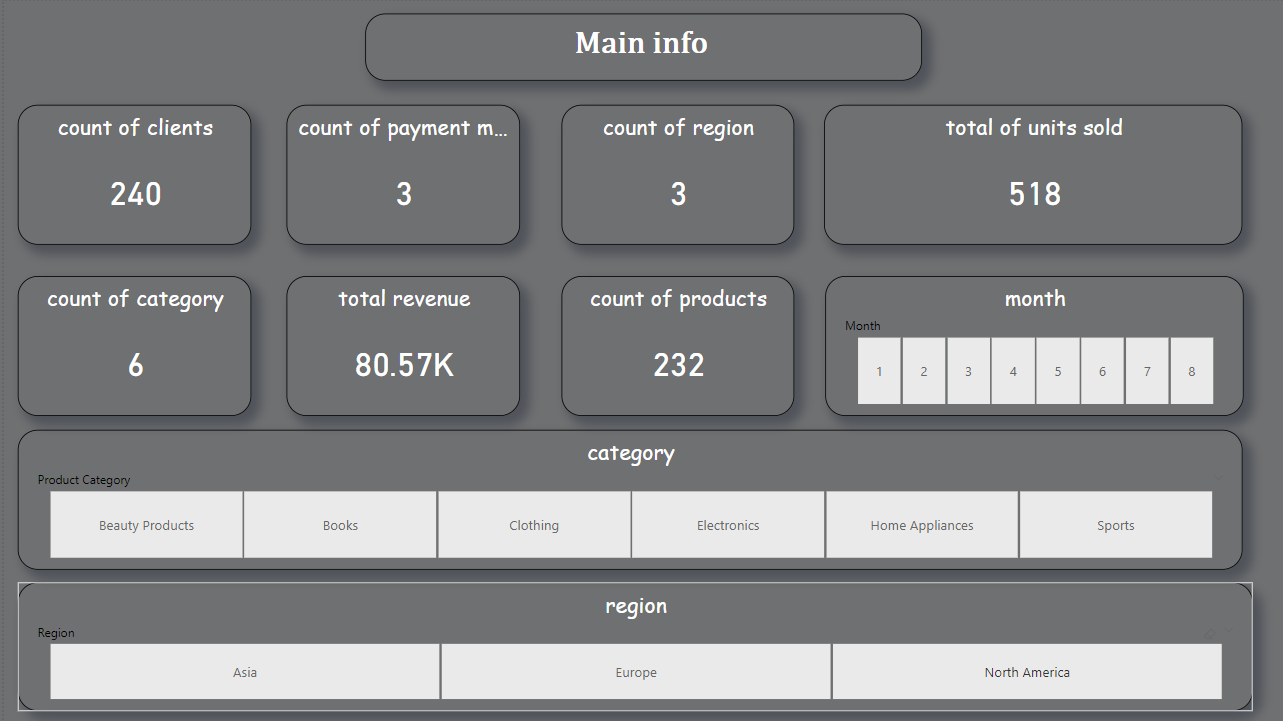

The page's visual inventory and layout, read from the dashboard file:
{"tool":"powerbi","page":{"name":"main info","canvas":[1280,720],"ordinal":0},"visuals":[{"type":"card","title":"count of clients","fields":{"Values":["CountNonNull(Table1.Transaction ID)"]},"box":[13.8,103.8,233.8,140],"z":0},{"type":"card","title":"count of category","fields":{"Values":["Count(Table1.Product Category)"]},"box":[13.8,275,233.8,140],"z":1000},{"type":"card","title":"count of products","fields":{"Values":["Count(Table1.Product Name)"]},"box":[557.5,275,232.5,140],"z":2000},{"type":"card","title":"total of units sold","fields":{"Values":["Sum(Table1.Units Sold)"]},"box":[820,103.8,418.8,140],"z":3000},{"type":"card","title":"total revenue","fields":{"Values":["Sum(Table1.Total Revenue)"]},"box":[282.5,275,233.8,140],"z":4000},{"type":"card","title":"count of payment methods","fields":{"Values":["Count(Table1.Payment Method)"]},"box":[282.5,103.8,233.8,140],"z":5000},{"type":"card","title":"count of region","fields":{"Values":["Count(Table1.Region)"]},"box":[557.5,103.8,232.5,140],"z":6000},{"type":"textbox","box":[360.9,12.3,557.1,67.2],"z":7000},{"type":"slicer","title":"month","fields":{"Values":["Table1.Month"]},"box":[821.2,275,418.8,140],"z":8000},{"type":"slicer","title":"category","fields":{"Values":["Table1.Product Category"]},"box":[13.8,428.8,1225,140],"z":9000},{"type":"slicer","title":"region","fields":{"Values":["Table1.Region"]},"box":[13.8,581.2,1235,128.8],"z":10000}]}

Visuals, with their boxes in screenshot pixels (x1, y1, x2, y2), scaled from the page's 1280x720 canvas onto the 1283x721 screenshot:
"count of clients" card: x1=14 y1=104 x2=248 y2=244
"count of category" card: x1=14 y1=275 x2=248 y2=416
"count of products" card: x1=559 y1=275 x2=792 y2=416
"total of units sold" card: x1=822 y1=104 x2=1242 y2=244
"total revenue" card: x1=283 y1=275 x2=518 y2=416
"count of payment methods" card: x1=283 y1=104 x2=518 y2=244
"count of region" card: x1=559 y1=104 x2=792 y2=244
textbox: x1=362 y1=12 x2=920 y2=80
"month" slicer: x1=823 y1=275 x2=1243 y2=416
"category" slicer: x1=14 y1=429 x2=1242 y2=570
"region" slicer: x1=14 y1=582 x2=1252 y2=711
